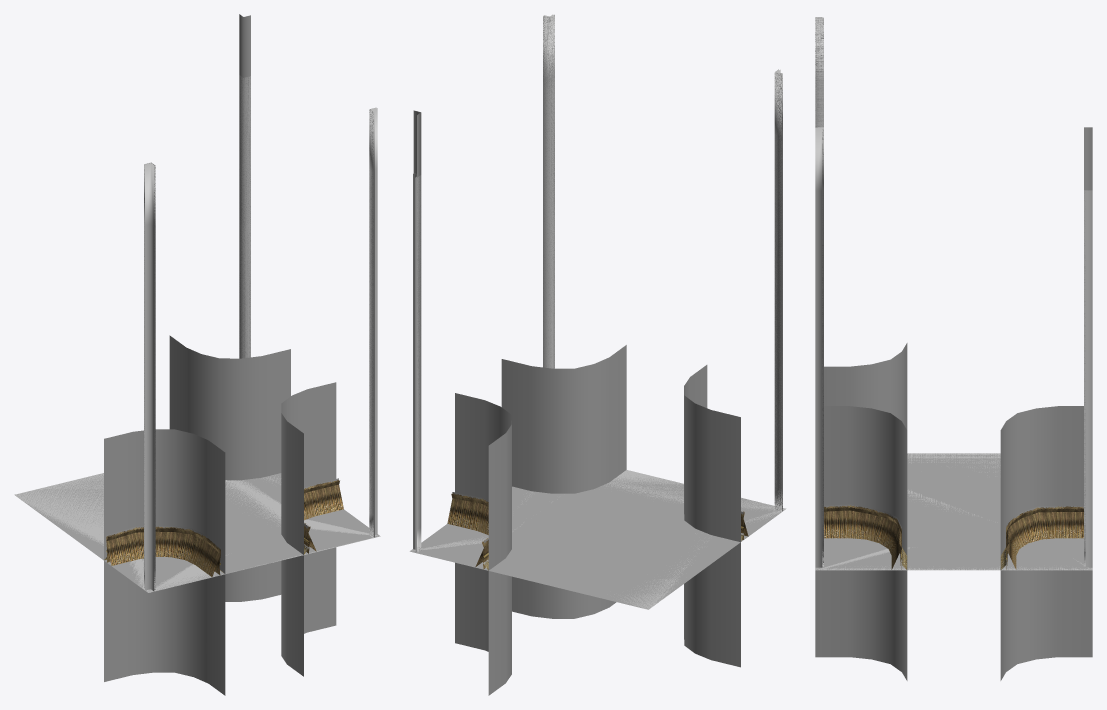
Rendered from roomgateD1.fbx.
3 renders of one model, left to right at view 1: azimuth 30°, elevation 25°; view 2: azimuth 150°, elevation 25°; view 3: azimuth 270°, elevation 25°, orthographic. The views are drawn at different scales.
Parts seen in each view (by area): view 1: col_w, mdl_LOD0, col_o, mdl2_LOD0; view 2: col_w, col_o, mdl_LOD0, mdl2_LOD0; view 3: col_w, col_o, mdl_LOD0, mdl2_LOD0.
Part boxes in pixels (x1=…): col_w: x1=104, y1=335, x2=336, y2=695; mdl_LOD0: x1=14, y1=75, x2=379, y2=592; col_o: x1=15, y1=14, x2=380, y2=592; mdl2_LOD0: x1=104, y1=107, x2=377, y2=572; col_w: x1=455, y1=345, x2=740, y2=695; col_o: x1=410, y1=15, x2=785, y2=609; mdl_LOD0: x1=409, y1=77, x2=786, y2=609; mdl2_LOD0: x1=451, y1=14, x2=782, y2=570; col_w: x1=815, y1=343, x2=1092, y2=680; col_o: x1=815, y1=17, x2=1092, y2=570; mdl_LOD0: x1=815, y1=80, x2=1092, y2=570; mdl2_LOD0: x1=815, y1=17, x2=1083, y2=569.
Size of what is drawn, in the model's own units: 1600 by 3600 by 1600.
